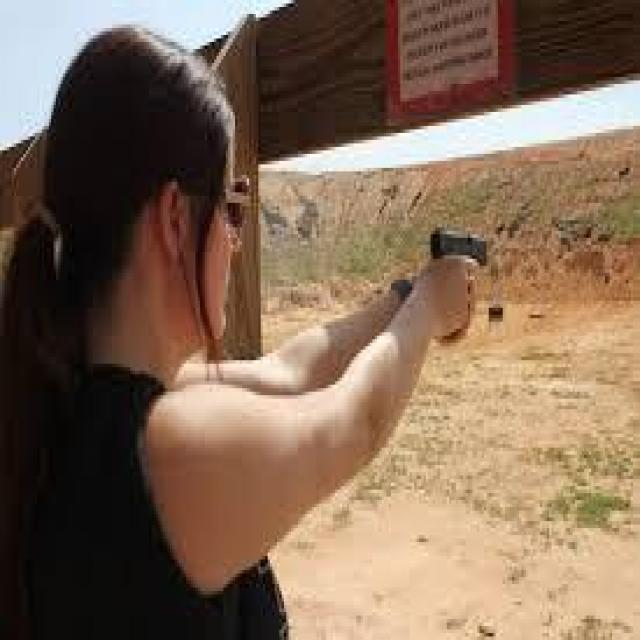pistol: (431, 227, 486, 273)
